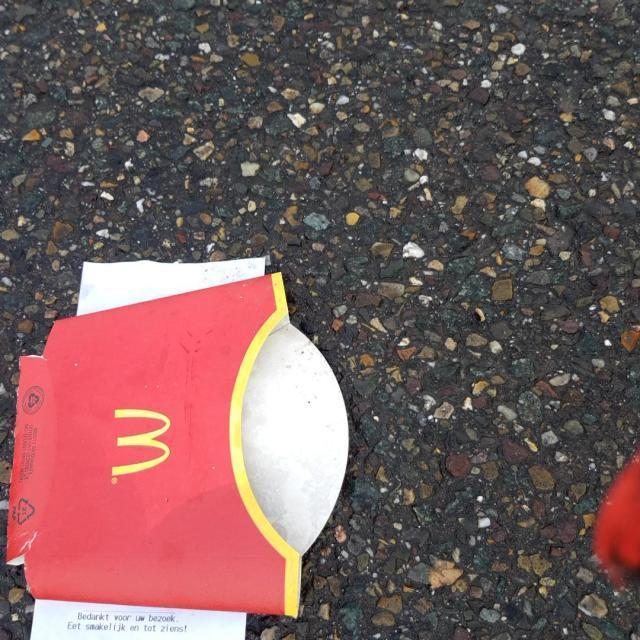Paper: (4, 266, 352, 624)
